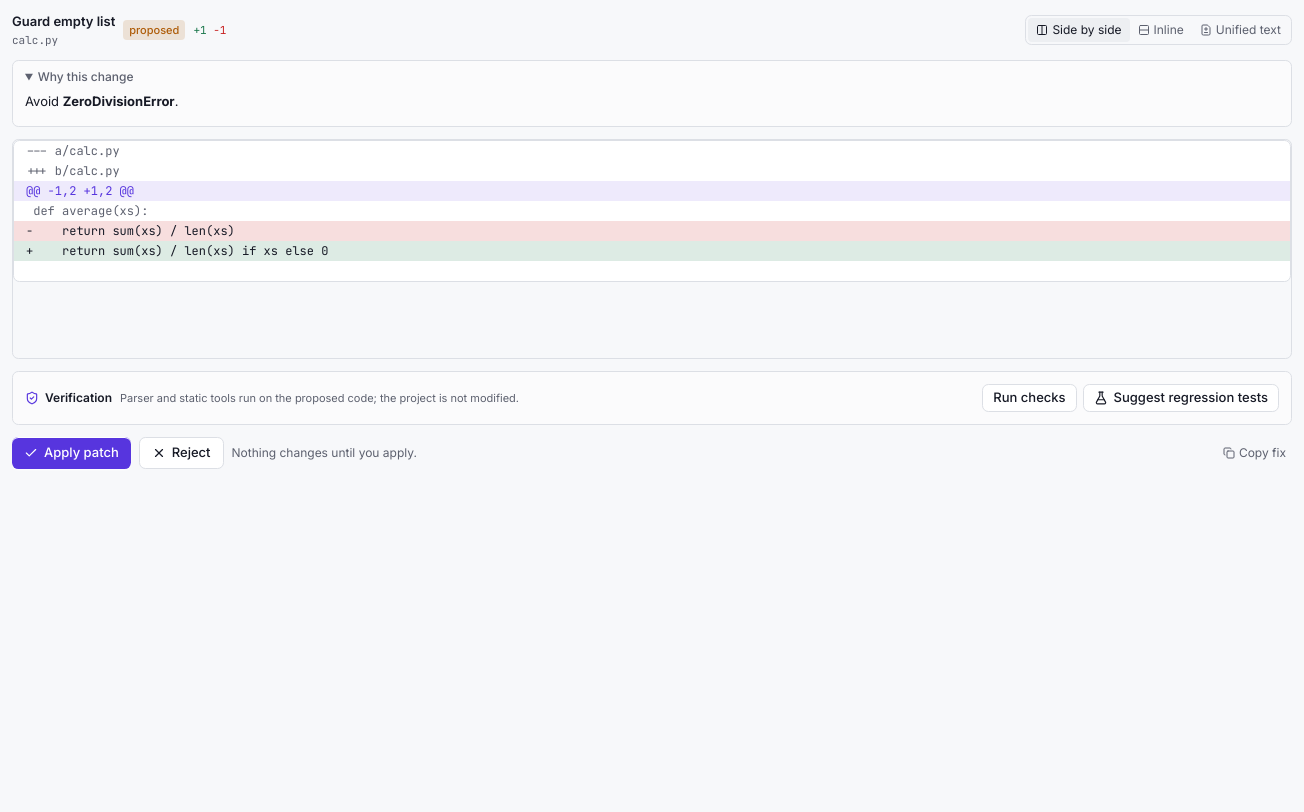
PatchReview › rejects without changing files
The width and height of the screenshot is (1304, 812).
Step 1. Click the button "Reject" → [181, 453], box [139,437,224,469]
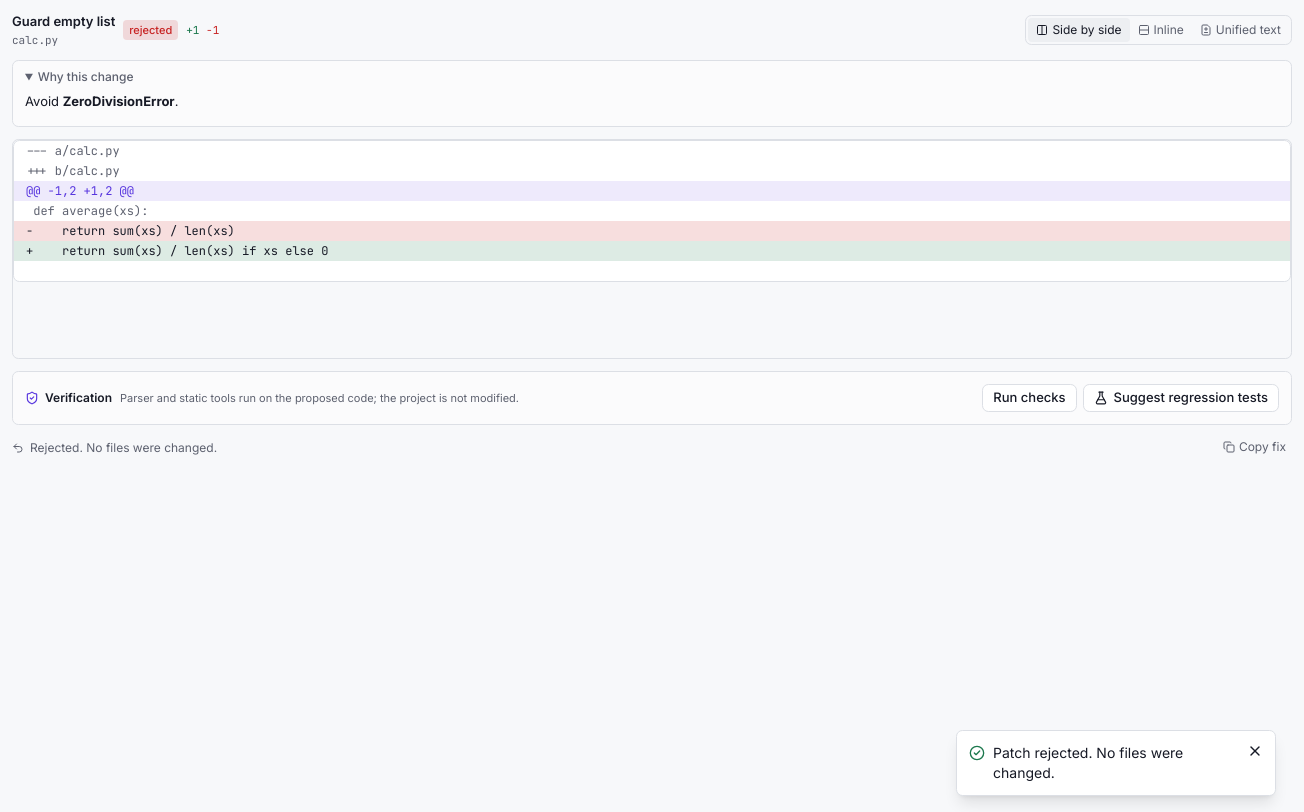
expect the text "rejected" is shown: met, box [123,20,178,40]
expect the text "Rejected. No files were changed." is shown: met, box [12,440,217,456]
